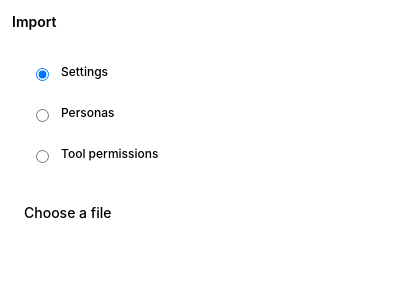
Test: a file from a newer build is refused with its version
Click the button "Choose a file" at (68,213), box [12,195,123,231]
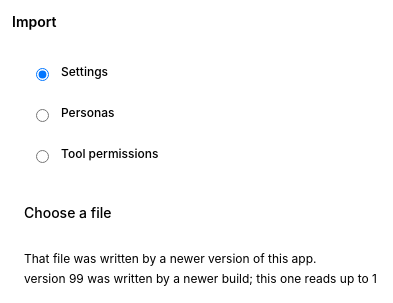
Expected: the message with test id "portable-import-rejection" shows "written by a newer version", [24,251,316,266]
